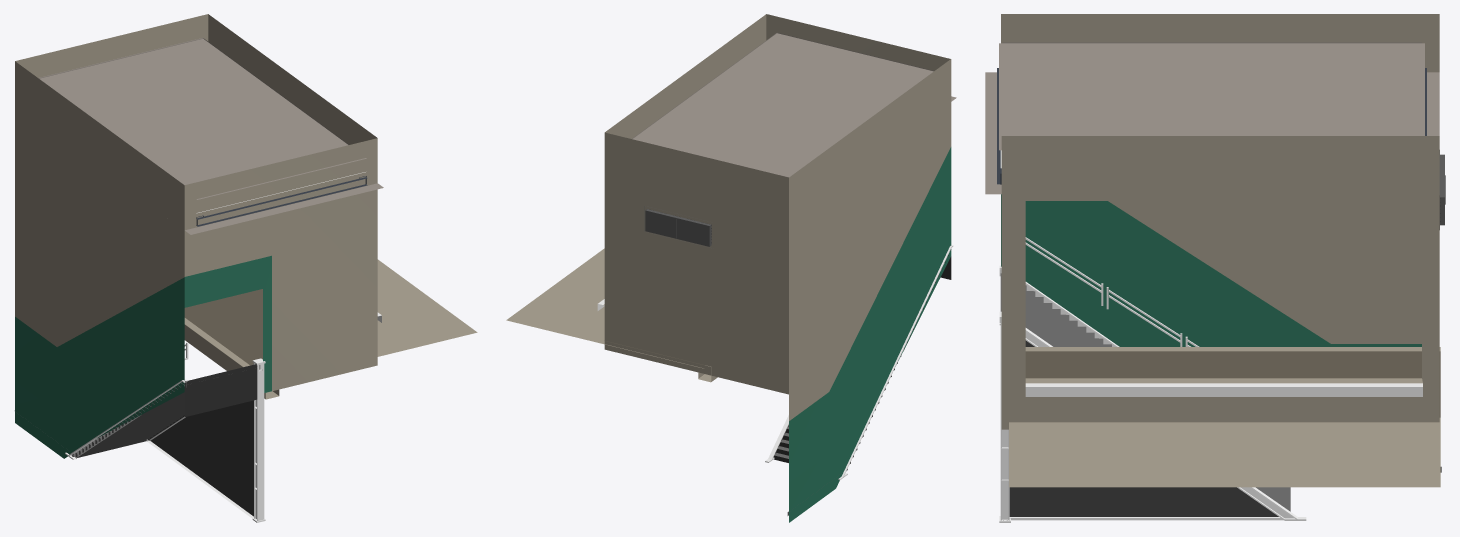
File: SM_H_Building_Tide_MedicalRoom_17_ATLAS.fbx
3 renders of one model, left to right at view 1: azimuth 30°, elevation 25°; view 2: azimuth 150°, elevation 25°; view 3: azimuth 270°, elevation 25°, orthographic. The views are drawn at different scales.
Visible parts, largest first — view 1: SM_H_Building_Tide_MedicalRoom_17_ATLAS; view 2: SM_H_Building_Tide_MedicalRoom_17_ATLAS; view 3: SM_H_Building_Tide_MedicalRoom_17_ATLAS.
Boxes of the visible parts, <box> form: SM_H_Building_Tide_MedicalRoom_17_ATLAS: <box>14,14,477,522</box>; SM_H_Building_Tide_MedicalRoom_17_ATLAS: <box>506,14,956,522</box>; SM_H_Building_Tide_MedicalRoom_17_ATLAS: <box>985,14,1445,522</box>.
Bounding box in the file's own units: 1089 × 1127 × 1264.
